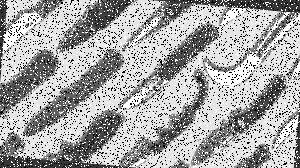knife: (22, 43, 133, 139), (193, 73, 292, 163), (120, 19, 215, 108), (118, 79, 211, 168), (200, 11, 300, 88), (56, 0, 132, 54), (119, 1, 191, 53), (5, 0, 57, 50)
